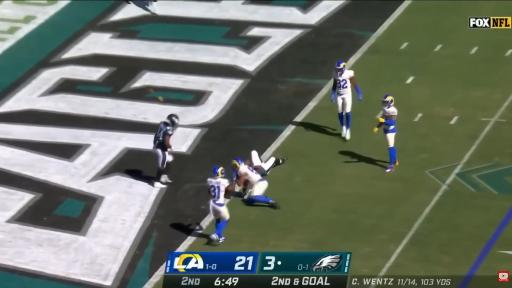Helmet: (335, 60, 346, 76), (166, 114, 179, 126), (383, 95, 394, 108), (213, 166, 225, 177), (232, 158, 243, 168)
Jersey: (207, 178, 229, 204), (154, 122, 174, 150), (335, 70, 354, 97), (238, 165, 262, 185), (250, 164, 267, 176), (381, 107, 397, 119)
Player: (331, 61, 362, 140), (232, 159, 279, 209), (153, 114, 179, 188), (374, 95, 398, 171), (207, 166, 229, 244), (244, 151, 287, 176), (250, 151, 287, 176)
